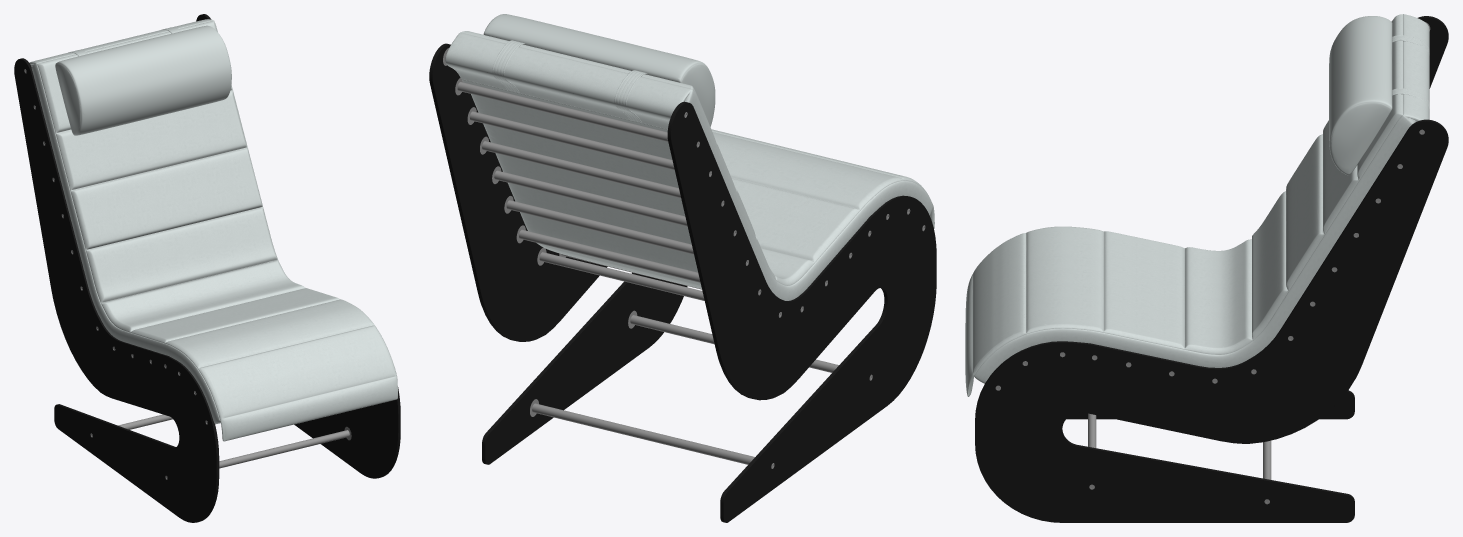
Rendered from angel-poltrona-clun-287.glb.
3 renders of one model, left to right at view 1: azimuth 30°, elevation 25°; view 2: azimuth 150°, elevation 25°; view 3: azimuth 270°, elevation 25°, orthographic. The views are drawn at different scales.
Parts seen in each view (by area): view 1: angel-seduta, angel-struttura, angel-tubolare; view 2: angel-struttura, angel-seduta, angel-tubolare; view 3: angel-struttura, angel-seduta, angel-tubolare.
Boxes of the visible parts, left/top/right/bottom form: angel-seduta: left=29, top=19, right=397, bottom=441; angel-struttura: left=14, top=14, right=400, bottom=522; angel-tubolare: left=24, top=66, right=351, bottom=479; angel-struttura: left=429, top=43, right=936, bottom=522; angel-seduta: left=445, top=14, right=934, bottom=300; angel-tubolare: left=443, top=48, right=925, bottom=468; angel-struttura: left=975, top=16, right=1448, bottom=522; angel-seduta: left=965, top=14, right=1429, bottom=396; angel-tubolare: left=995, top=22, right=1430, bottom=504.
Size of the model in its own units: 0.5685 by 1.04 by 1.1.
Materials: 3 (1 with a texture image).
